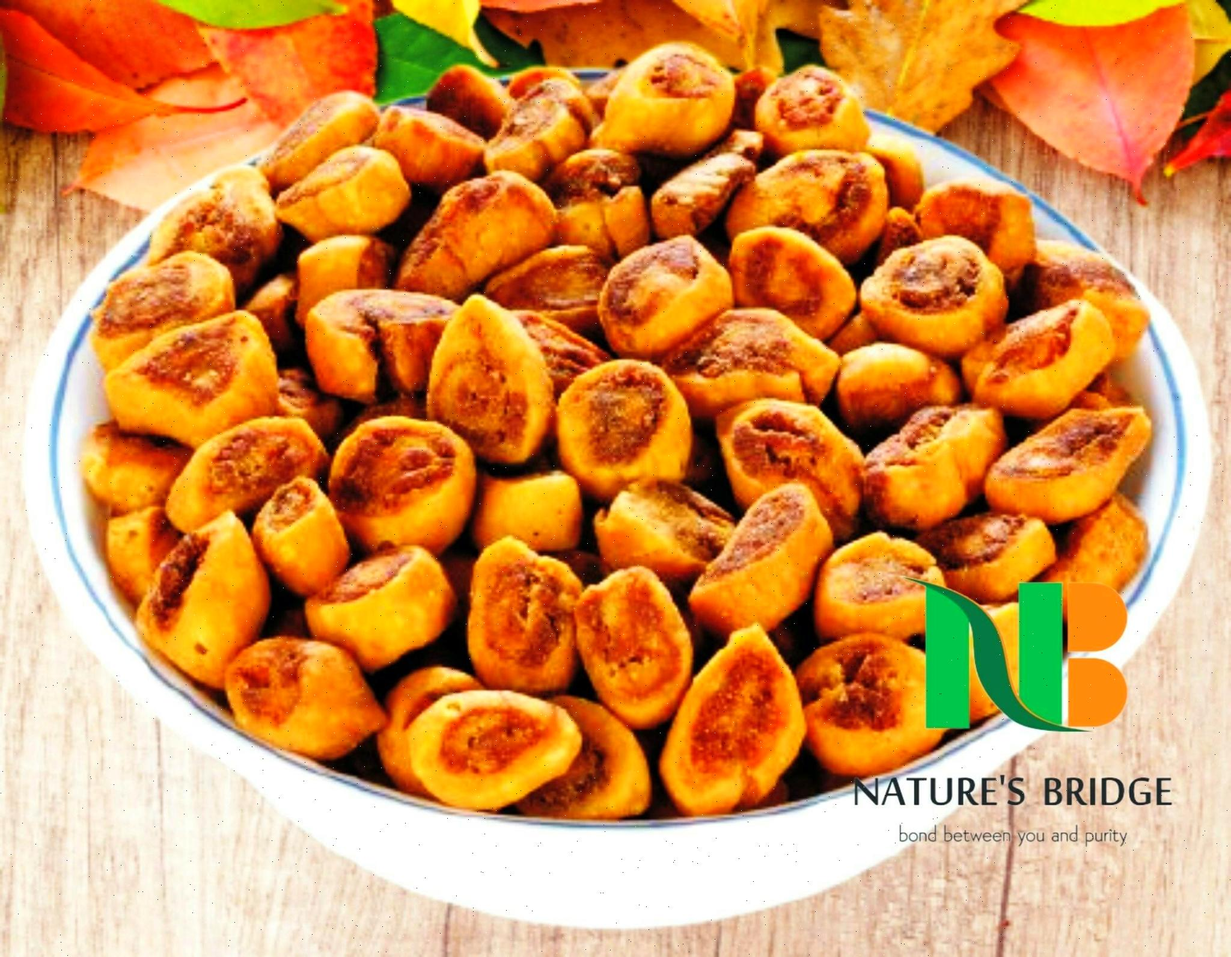bhakarwadi: (77, 87, 1161, 560)
